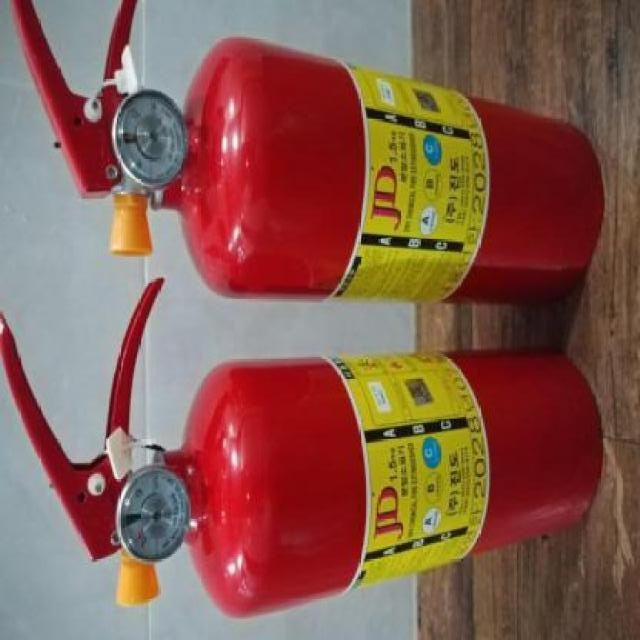fire extinguisher: (0, 277, 602, 618), (8, 0, 603, 308)
